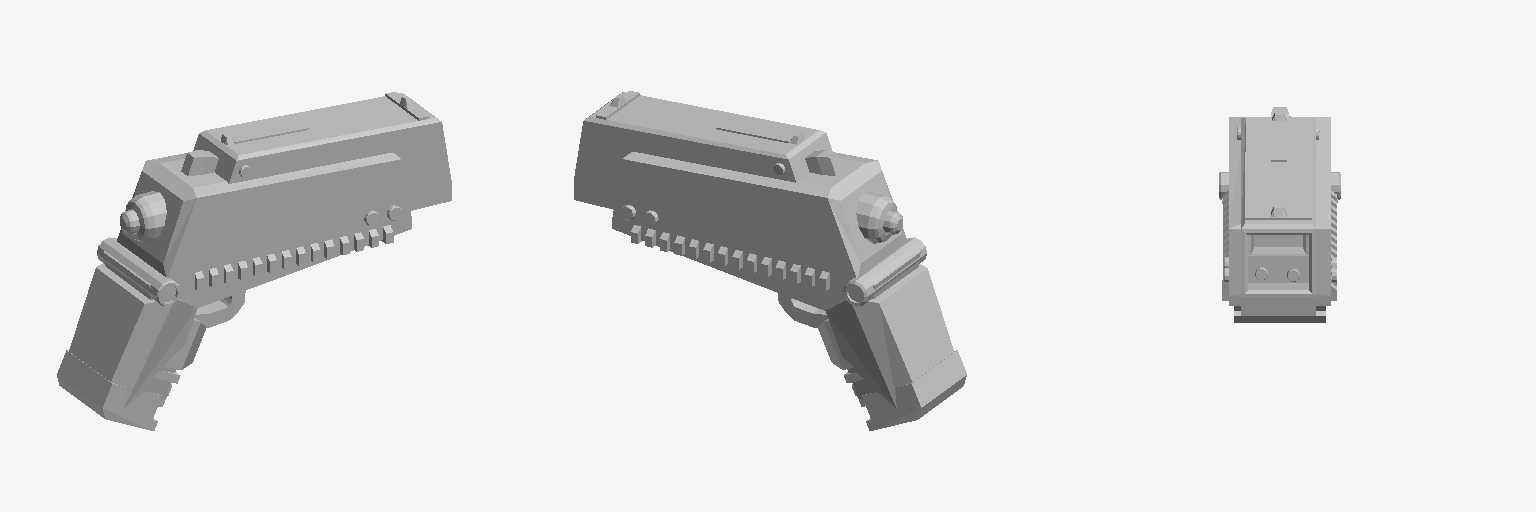
Rendered from TaserV2.obj.
3 renders of one model, left to right at view 1: azimuth 30°, elevation 25°; view 2: azimuth 150°, elevation 25°; view 3: azimuth 270°, elevation 25°, orthographic.
Size of the model in its own units: 4.35 by 3.02 by 1.31.